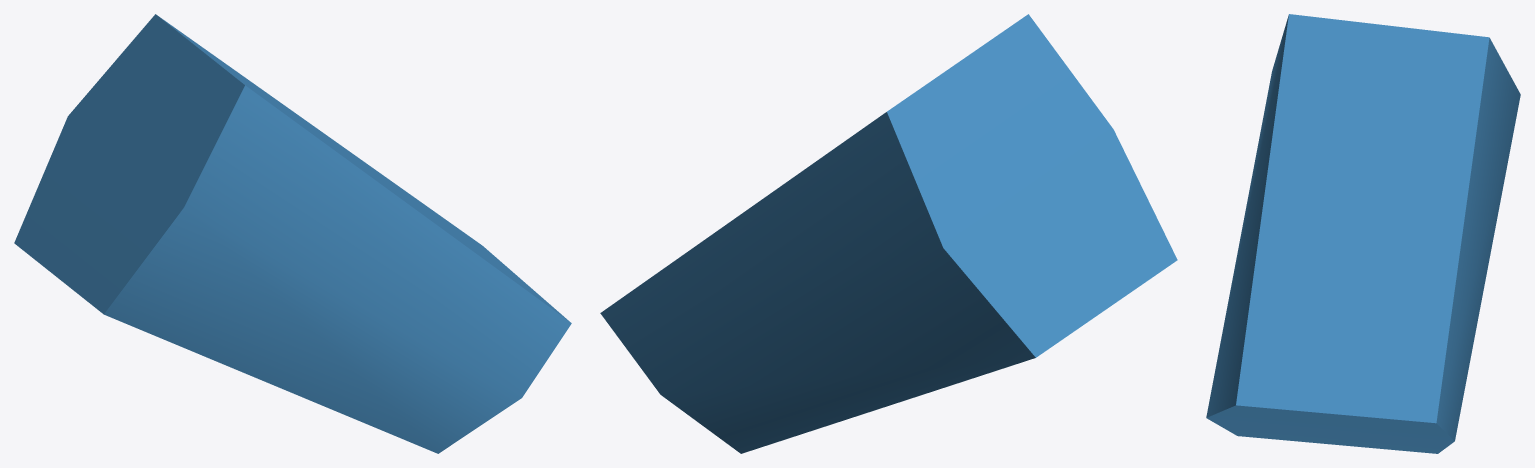
Rendered from Driver_Thumb_B_1.fbx.
3 views of the same model, side by side, from view 1: azimuth 30°, elevation 25°; view 2: azimuth 150°, elevation 25°; view 3: azimuth 270°, elevation 25° (orthographic). The views are drawn at different scales.
Parts seen in each view (by area): view 1: Driver_Thumb_B_1; view 2: Driver_Thumb_B_1; view 3: Driver_Thumb_B_1.
Part boxes in pixels (x1,y1,x2,y2): Driver_Thumb_B_1: (14,14,571,453); Driver_Thumb_B_1: (600,14,1177,453); Driver_Thumb_B_1: (1206,14,1520,453).
Bounding box in the file's own units: 7.16 × 5.9 × 4.7.
